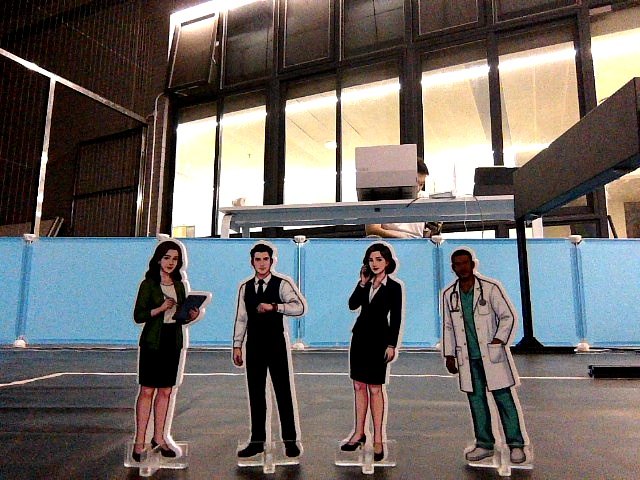community_person: (433, 238, 535, 476), (123, 233, 214, 476), (225, 233, 313, 477), (333, 236, 418, 478)
